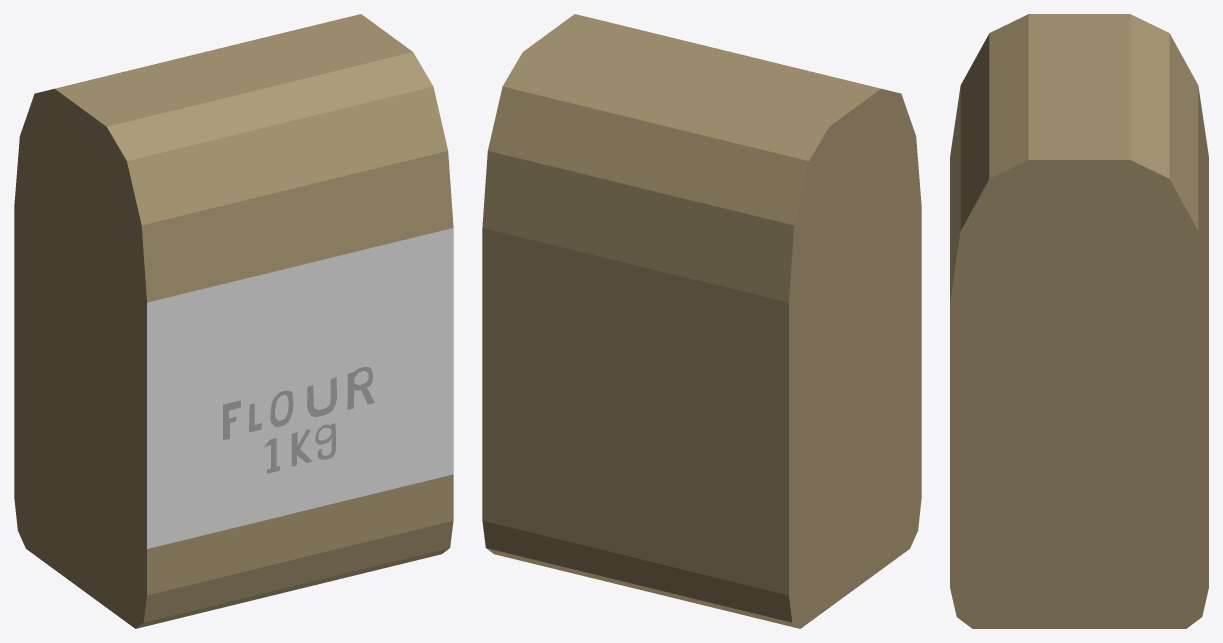
The model's file is bloem.fbx.
The picture shows the model from 3 angles, left to right: view 1: azimuth 30°, elevation 25°; view 2: azimuth 150°, elevation 25°; view 3: azimuth 270°, elevation 25°; orthographic projection. The views are drawn at different scales.
Parts seen in each view (by area): view 1: Cube; view 2: Cube; view 3: Cube.
Boxes of the visible parts, x1,y1,x2,y2 form: Cube: (14, 14, 453, 628); Cube: (482, 14, 921, 628); Cube: (950, 14, 1208, 628).
Bounding box in the file's own units: 20 × 30 × 15.
